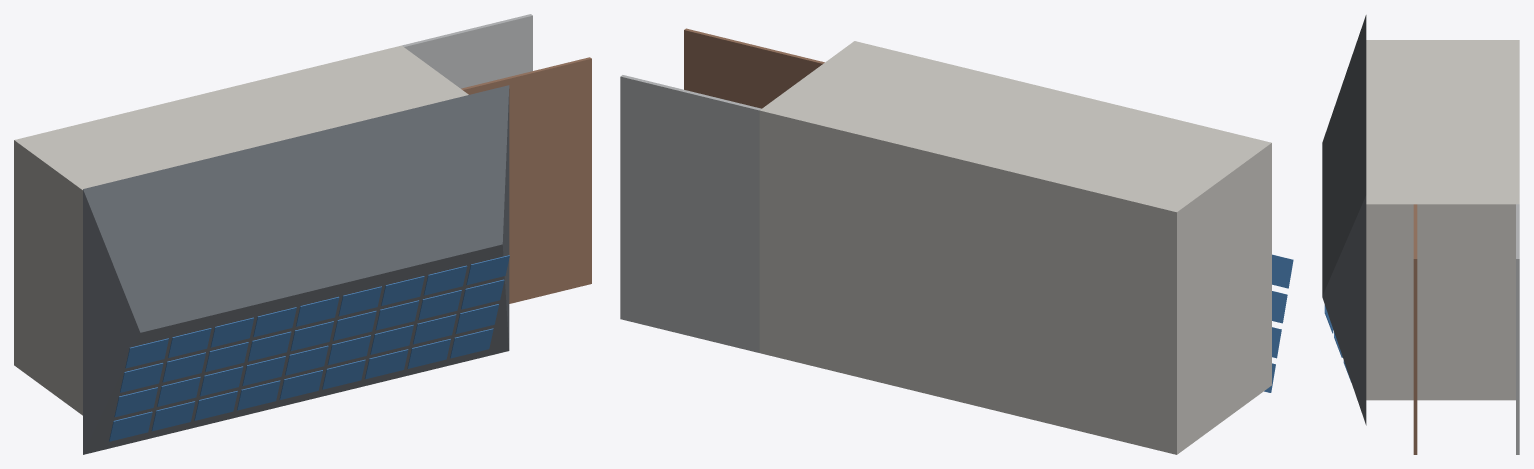
File: generated_29e595004e.glb
The picture shows the model from 3 angles, left to right: view 1: azimuth 30°, elevation 25°; view 2: azimuth 150°, elevation 25°; view 3: azimuth 270°, elevation 25°; orthographic projection. The views are drawn at different scales.
Parts seen in each view (by area): view 1: hip_roof, house_body, front_porch_roof, front_porch_slab, solar_panel_16, solar_panel_27, solar_panel_33, solar_panel_6, solar_panel_8, solar_panel_24, solar_panel_34, solar_panel (+28 smaller); view 2: house_body, front_porch_slab, front_porch_roof; view 3: house_body, hip_roof, front_porch_roof, front_porch_slab.
Part boxes in pixels (x1,y1,x2,y2): hip_roof: (83,85,509,454); house_body: (14,45,468,415); front_porch_roof: (461,57,591,303); front_porch_slab: (402,14,532,88); solar_panel_16: (413,314,456,344); solar_panel_27: (125,338,168,368); solar_panel_33: (381,276,424,305); solar_panel_6: (364,349,408,379); solar_panel_8: (450,328,493,358); solar_panel_24: (375,300,419,330); solar_panel_34: (423,265,467,295); solar_panel: (109,411,152,441); house_body: (759,41,1271,454); front_porch_slab: (620,75,761,352); front_porch_roof: (684,28,824,108); house_body: (1366,40,1519,400); hip_roof: (1322,15,1366,425); front_porch_roof: (1413,204,1417,454); front_porch_slab: (1516,204,1519,454).
Bounding box in the file's own units: 24.9 × 11.8 × 9.14.
